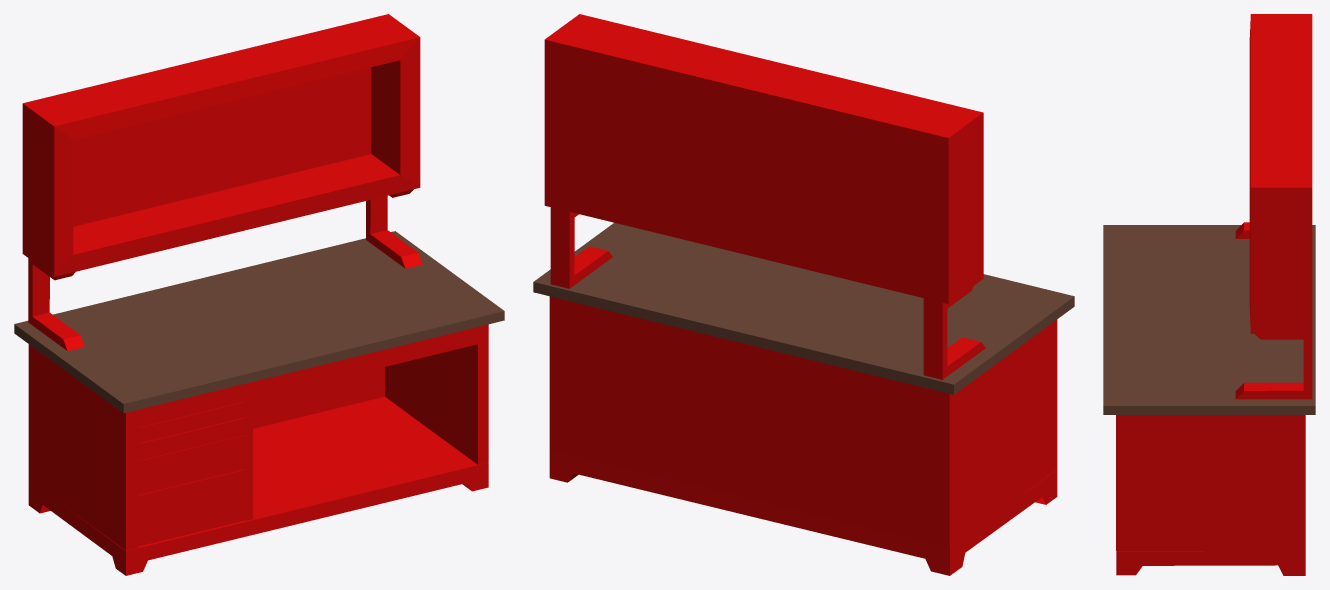
Rendered from Workbench.fbx.
The picture shows the model from 3 angles, left to right: view 1: azimuth 30°, elevation 25°; view 2: azimuth 150°, elevation 25°; view 3: azimuth 270°, elevation 25°; orthographic projection. The views are drawn at different scales.
Visible parts, largest first — view 1: Куб.022, Куб.018, Куб, Куб.001, Куб.004, Крышка самого большого ящика, Куб.006, Куб.017, Куб.009, Куб.020, Куб.015, Куб.011 (+5 smaller); view 2: Куб.022, Куб.006, Куб.018, Куб.001, Куб, Куб.020, Куб.019; view 3: Куб.018, Куб.005, Куб.022, Куб, Куб.019, Куб.006.
Part boxes in pixels (x1,y1,x2,y2): Куб.022: (22, 14, 420, 276); Куб.018: (14, 231, 504, 413); Куб: (28, 396, 488, 575); Куб.001: (28, 344, 131, 550); Куб.004: (385, 326, 483, 464); Крышка самого большого ящика: (138, 469, 245, 546); Куб.006: (253, 367, 384, 428); Куб.017: (253, 327, 477, 398); Куб.009: (138, 435, 246, 495); Куб.020: (28, 258, 84, 350); Куб.015: (138, 384, 245, 427); Куб.011: (138, 417, 245, 460); Куб.022: (544, 14, 983, 304); Куб.006: (549, 296, 949, 547); Куб.018: (533, 222, 1074, 394); Куб.001: (950, 319, 1057, 546); Куб: (549, 450, 1057, 575); Куб.020: (923, 286, 985, 379); Куб.019: (550, 207, 612, 288); Куб.018: (1103, 225, 1315, 414); Куб.005: (1116, 415, 1296, 550); Куб.022: (1249, 14, 1312, 333); Куб: (1116, 415, 1305, 575); Куб.019: (1235, 334, 1312, 399); Куб.006: (1297, 415, 1305, 550).
Size of the model in its own units: 321 by 322 by 160.
